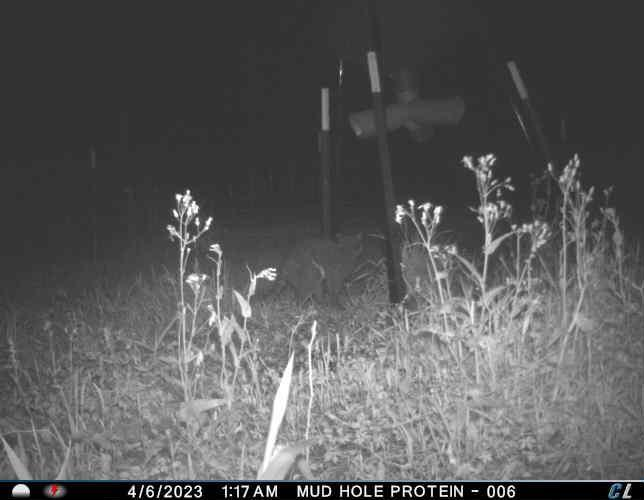Raccoon: (263, 228, 370, 308)
